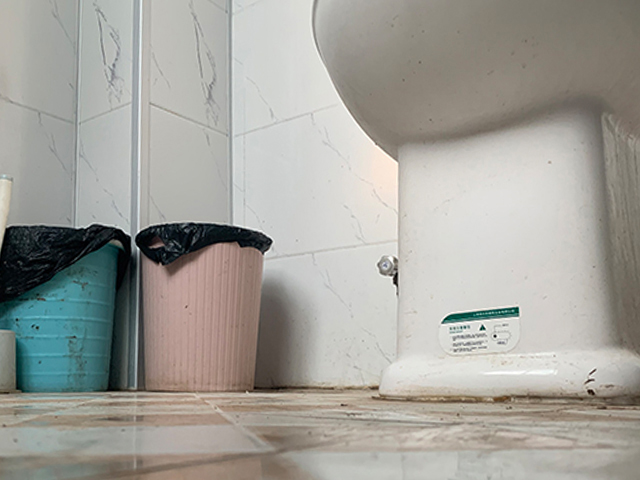closestool: (310, 1, 640, 405)
trashcan: (135, 221, 274, 392), (1, 224, 127, 391)
